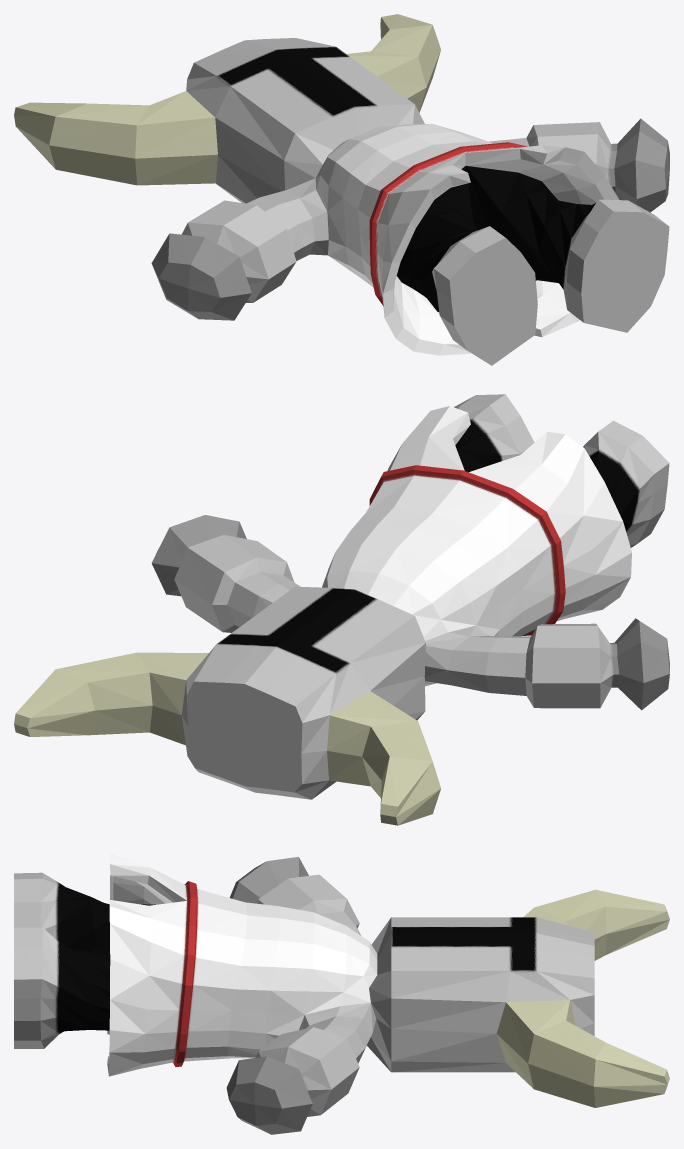
The model's file is knight.FBX.
3 views of the same model, one above another, from view 1: azimuth 30°, elevation 25°; view 2: azimuth 150°, elevation 25°; view 3: azimuth 270°, elevation 25° (orthographic). The views are drawn at different scales.
Visible parts, largest first — view 1: knight; view 2: knight; view 3: knight.
Part boxes in pixels (<box>): knight: <box>14,14,669,365</box>; knight: <box>14,394,669,825</box>; knight: <box>14,854,669,1134</box>.
Size of the model in its own units: 161 by 56.35 by 194.
